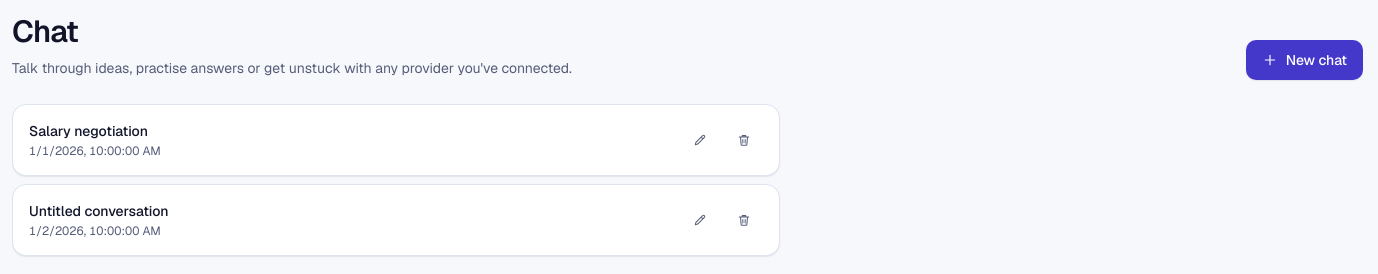
Test: ChatListView rename › cancels with Escape without a request
Click the button named "Rename conversation Salary negotiation": coordinates (700, 140) [681,124,719,156]
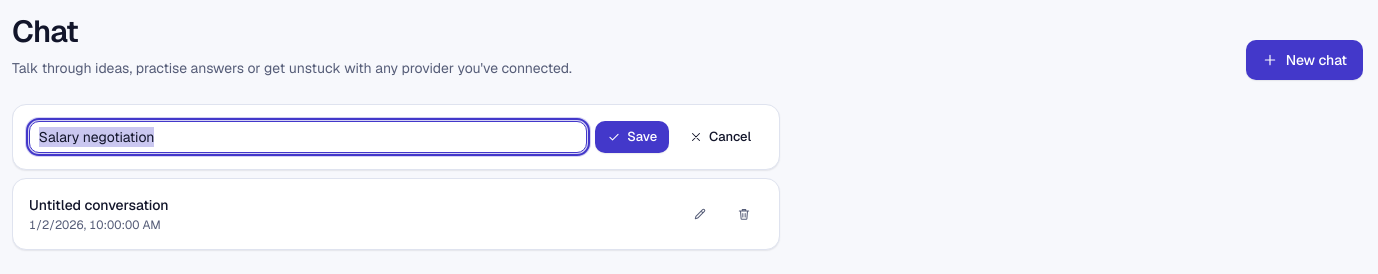
In the field named "New title for Salary negotiation": coordinates (308, 137) [29,121,587,153], type "zzz"
Then press Escape
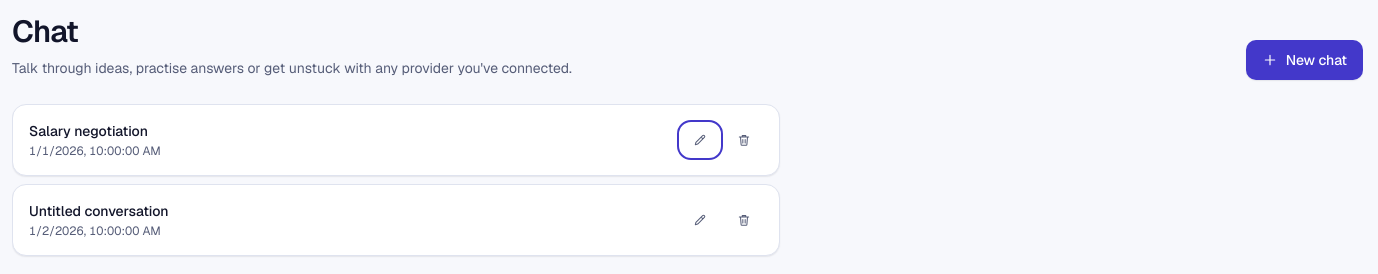
Now the link "Salary negotiation" is shown, box [29,122,148,140]
